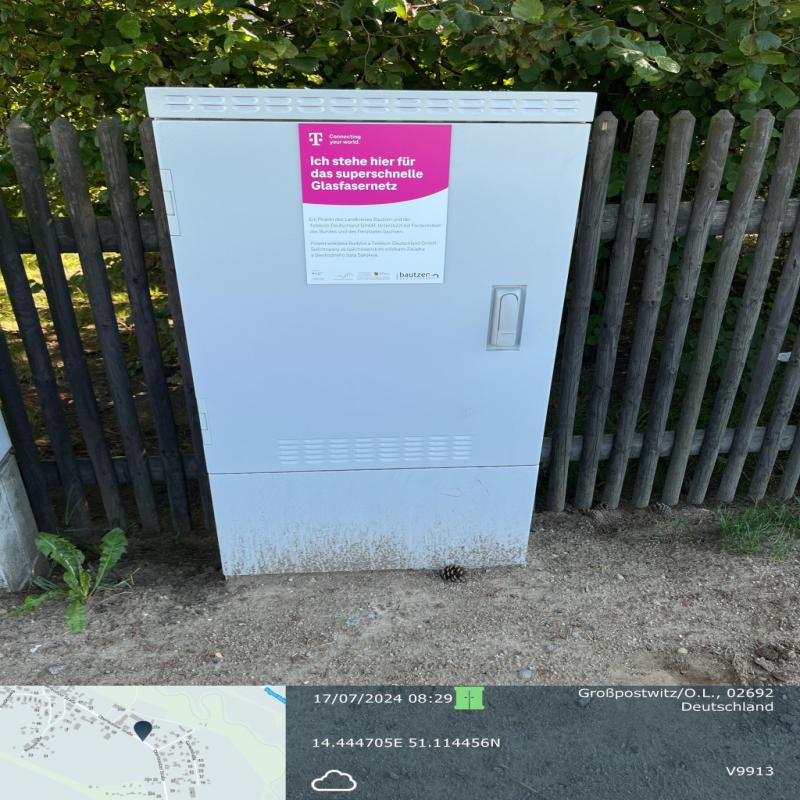NT-Gehause: (145, 88, 601, 576)
Steaker: (300, 118, 446, 284)
